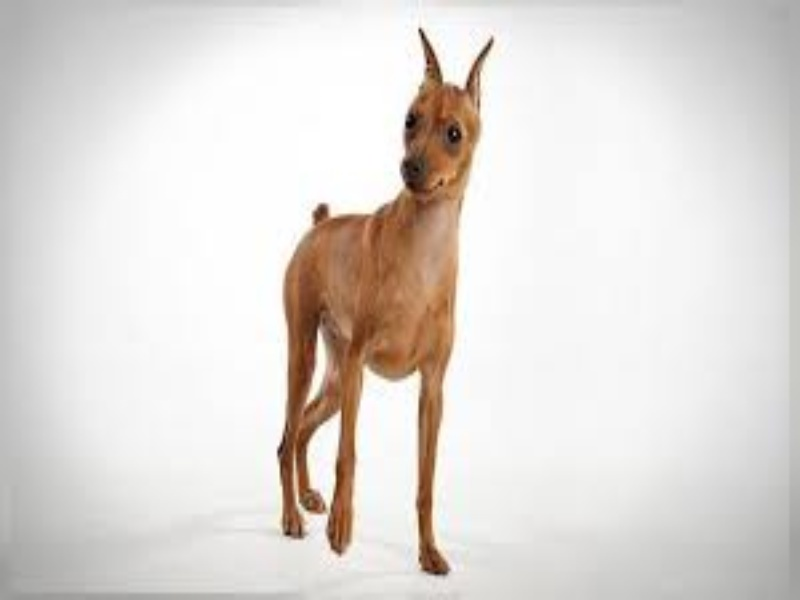dog: (244, 27, 519, 585)
